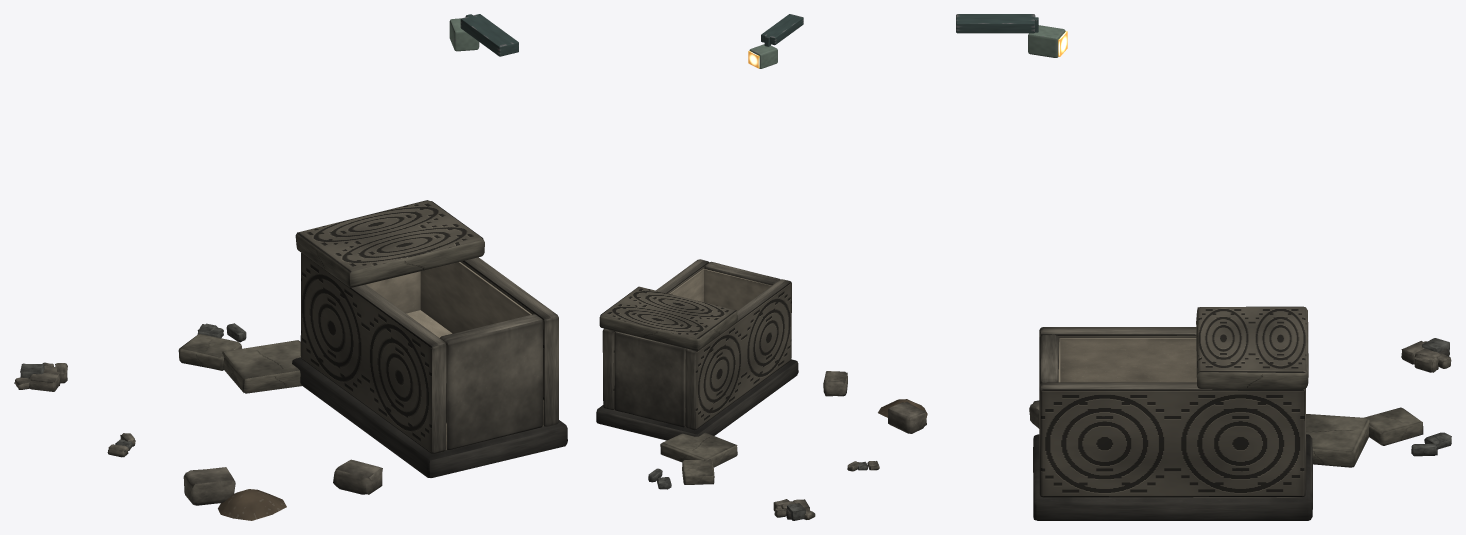
The model's file is THStage_FrontRoom_Furniture.fbx.
3 views of the same model, side by side, from view 1: azimuth 30°, elevation 25°; view 2: azimuth 150°, elevation 25°; view 3: azimuth 270°, elevation 25° (orthographic). The views are drawn at different scales.
Parts seen in each view (by area): view 1: THStage_FrontRoom_Furniture; view 2: THStage_FrontRoom_Furniture; view 3: THStage_FrontRoom_Furniture.
Part boxes in pixels (box(x1,y1,x2,y2)): THStage_FrontRoom_Furniture: box(14, 14, 567, 520); THStage_FrontRoom_Furniture: box(596, 14, 927, 520); THStage_FrontRoom_Furniture: box(956, 14, 1451, 520).
Size of the model in its own units: 1.78 by 2.16 by 2.13.
